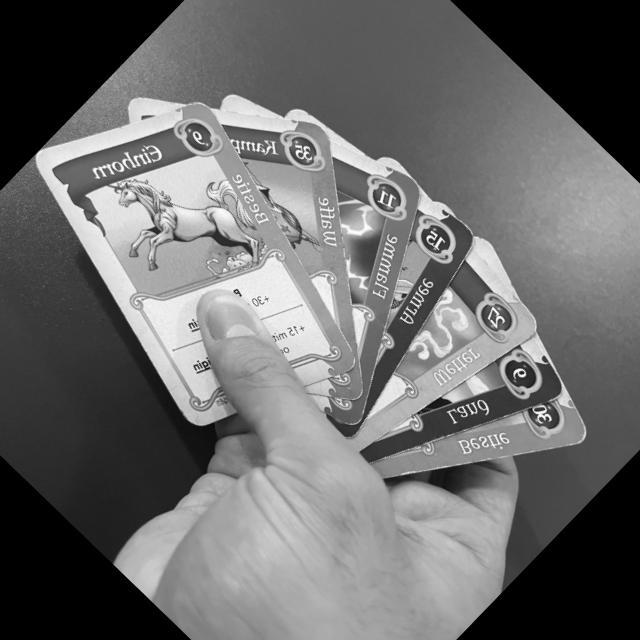Dragon: (369, 395, 592, 479)
Dwarvish Infantry: (364, 193, 477, 421)
Lightning: (330, 139, 423, 398)
Mountain: (360, 338, 569, 463)
Smoke: (352, 248, 543, 451)
Unicorn: (32, 100, 359, 430)
War Dirigable: (212, 106, 359, 364)
